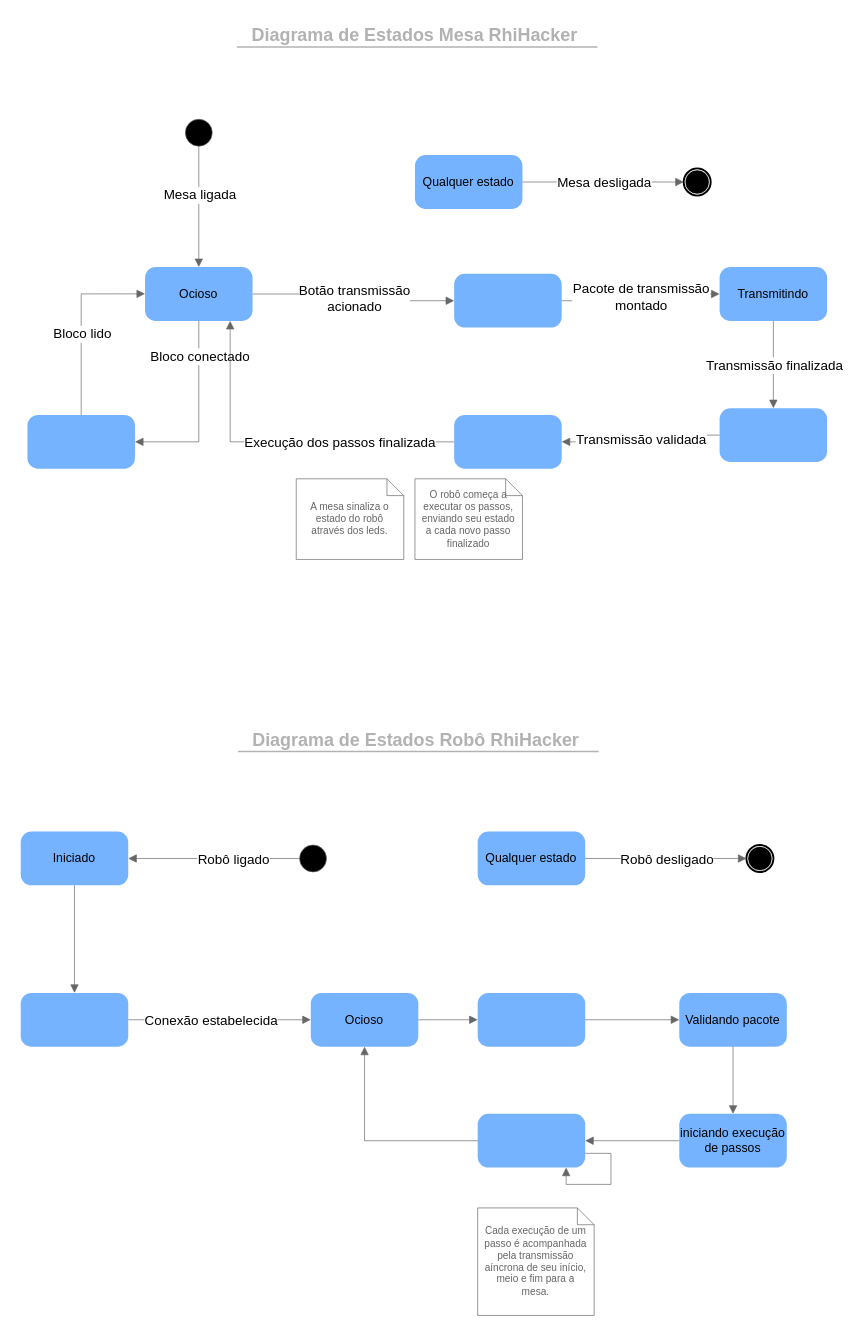
This 861x1335 diagram has some shape labels left out. Here are the shapes that lost their labels. From the top down, the box of each, then its label:
(453, 273, 561, 327): Montando transmissão
(27, 414, 135, 468): Lendo bloco
(453, 414, 561, 468): Observando execução
(719, 407, 827, 462): Aguardando confirmação
(20, 992, 128, 1046): Buscando conexão com mesa
(477, 992, 585, 1046): Recebendo transmissão
(477, 1113, 585, 1167): Executando passo X
